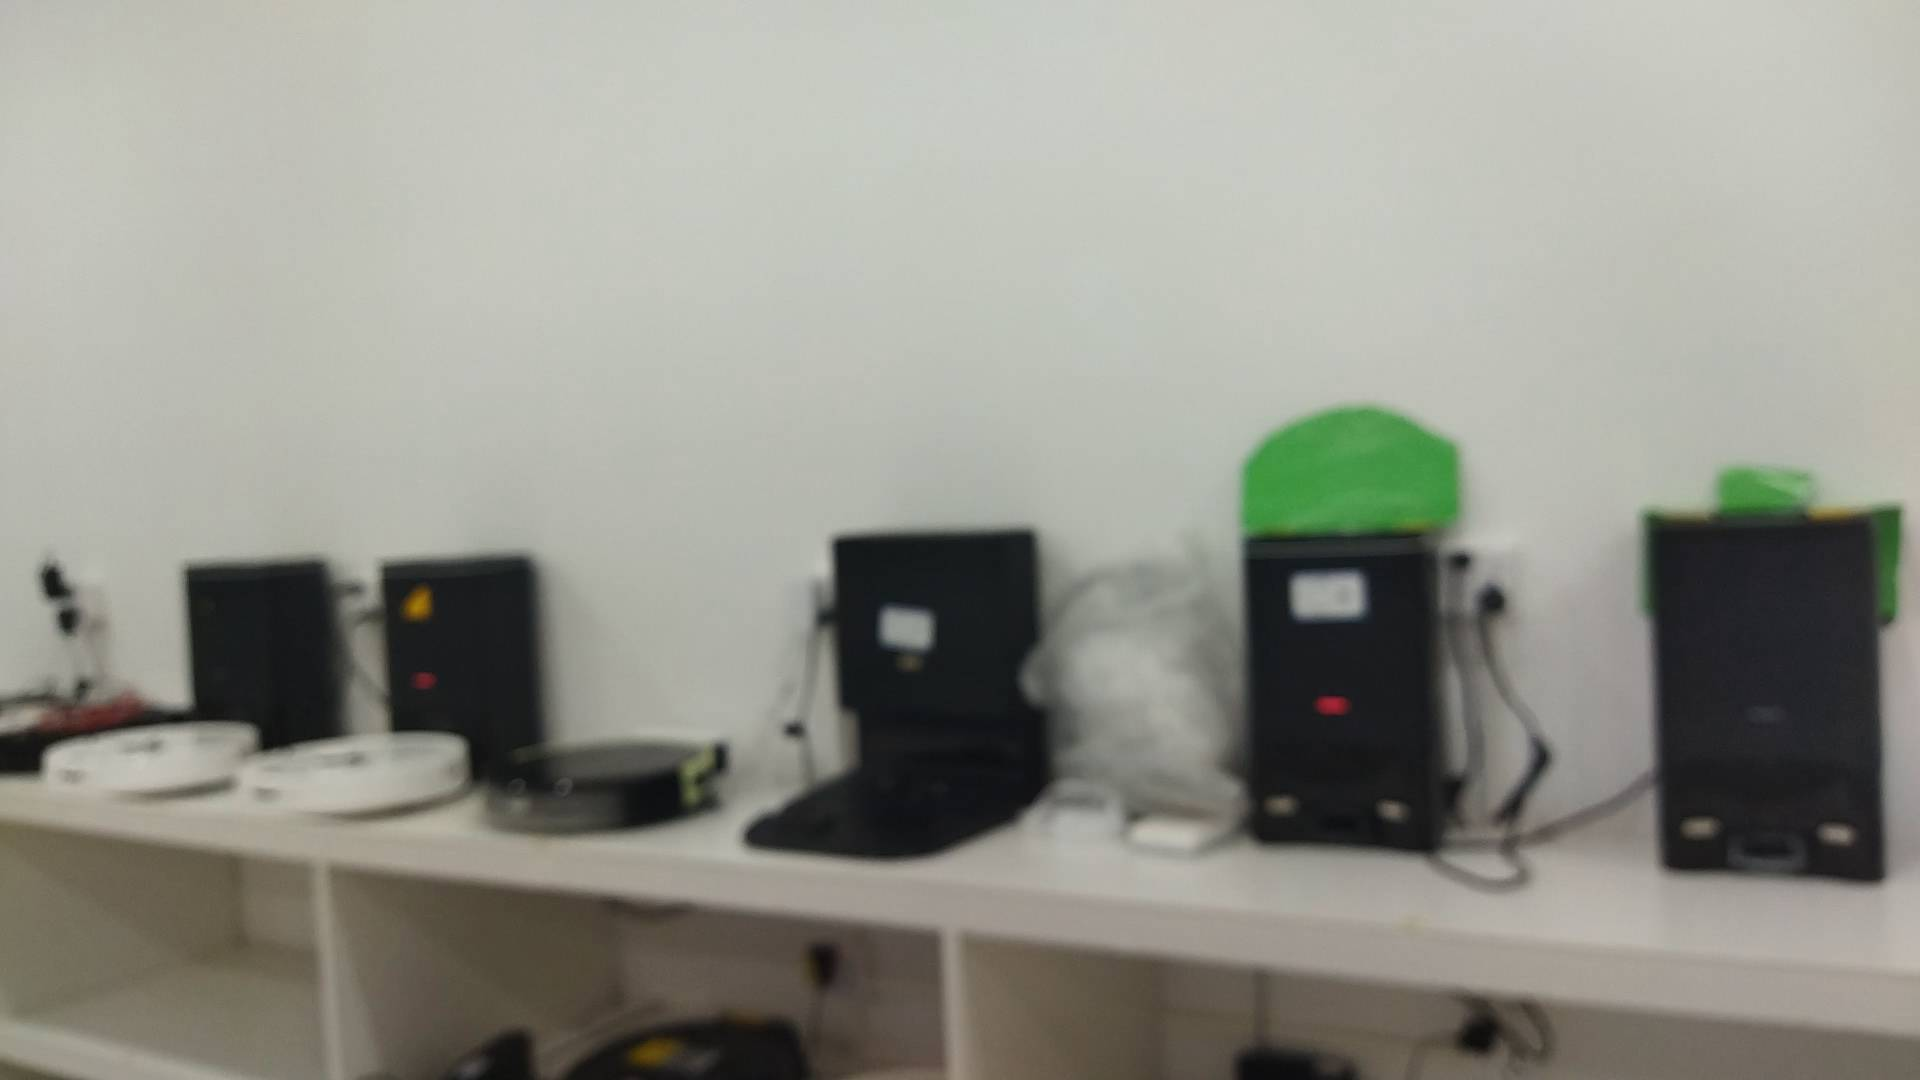dust collecting barrel: (742, 527, 1046, 860), (1644, 512, 1888, 884), (1247, 535, 1448, 851), (376, 553, 543, 753), (183, 556, 342, 742)
